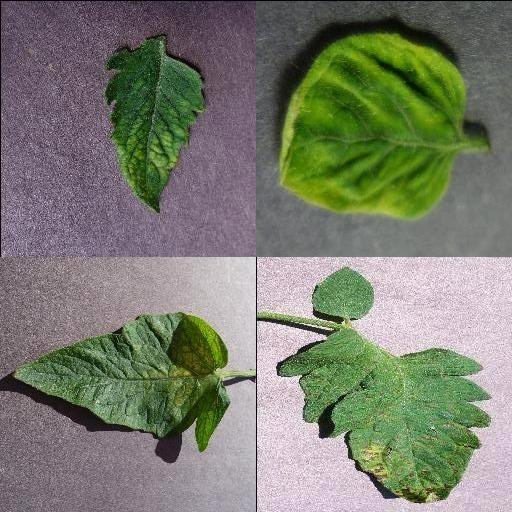Healthy: (310, 266, 372, 318)
Mosaic Virus: (102, 43, 206, 213)
Septoria: (276, 330, 491, 504)
Spider Mites: (9, 310, 229, 452)
Yellow Leaf Curl Virus: (275, 30, 467, 220)
